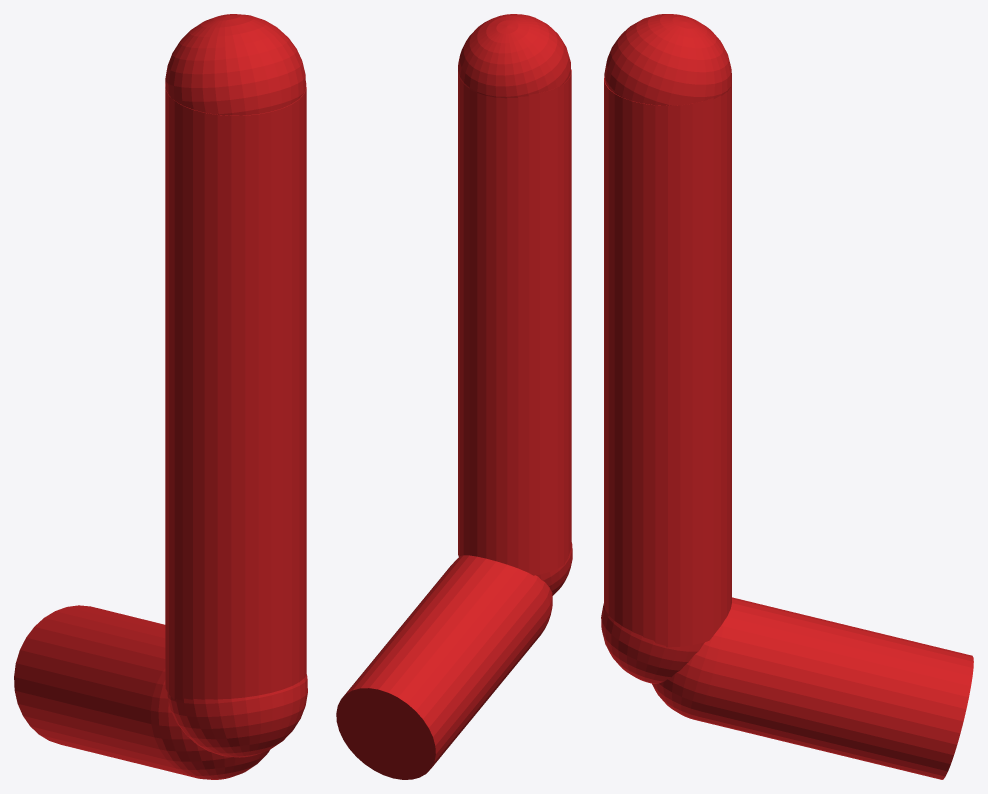
3 views of the same model, side by side, from view 1: azimuth 30°, elevation 25°; view 2: azimuth 150°, elevation 25°; view 3: azimuth 270°, elevation 25° (orthographic). The views are drawn at different scales.
Parts seen in each view (by area): view 1: Suspension_del_iz_001_000; view 2: Suspension_del_iz_001_000; view 3: Suspension_del_iz_001_000.
Part boxes in pixels (<box>): Suspension_del_iz_001_000: <box>14,14,307,779</box>; Suspension_del_iz_001_000: <box>336,14,572,779</box>; Suspension_del_iz_001_000: <box>601,14,973,779</box>.
Bounding box in the file's own units: 0.15 × 0.4368 × 0.975.
